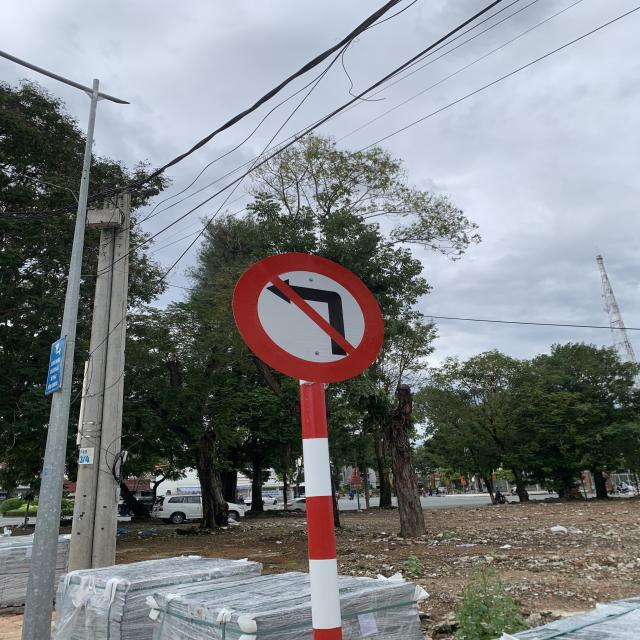Cam_Re_Trai: (232, 252, 382, 380)
